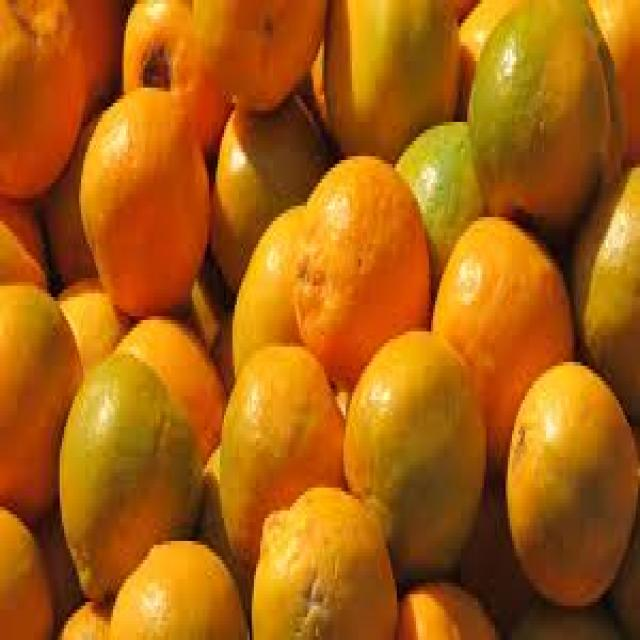orange: (290, 148, 426, 380), (75, 85, 213, 301)
